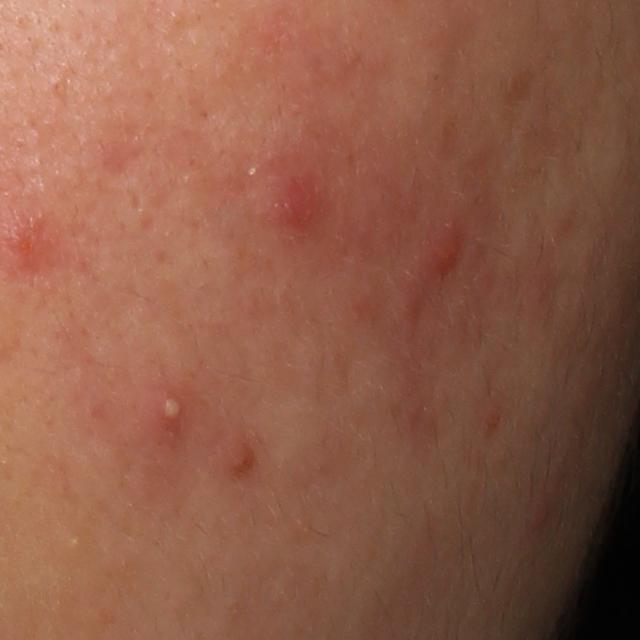comedo: (63, 530, 87, 551)
papule: (266, 163, 329, 233), (5, 211, 48, 268), (418, 224, 463, 276), (221, 440, 256, 475), (529, 501, 552, 530)
pustule: (143, 384, 194, 440)
